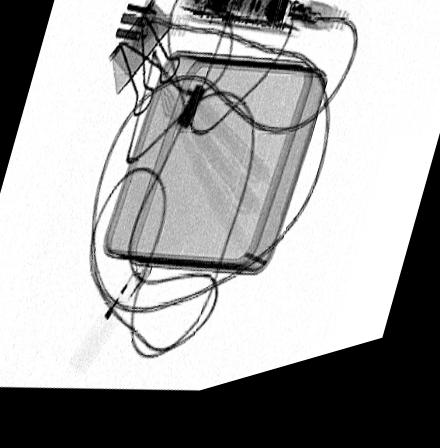Lighter: (69, 267, 153, 380)
